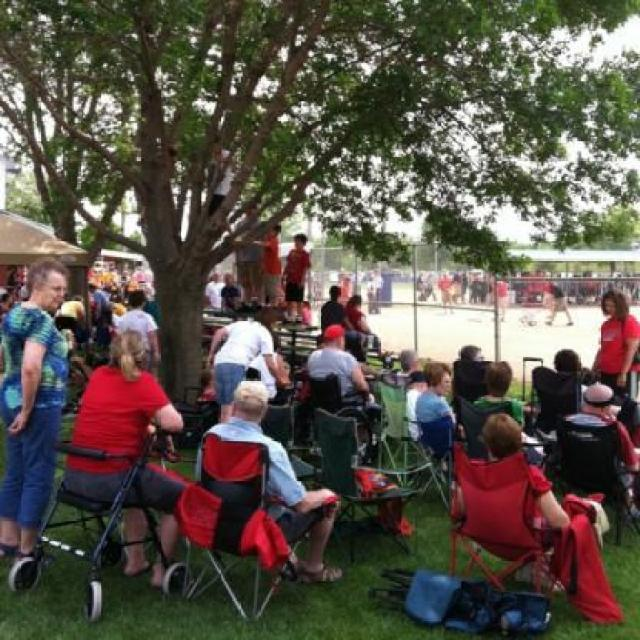Person: (0, 124, 638, 629)
